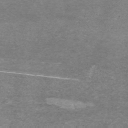finishing roll printing: (0, 70, 79, 81)
